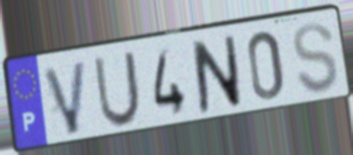0: (245, 28, 288, 105)
4: (151, 46, 189, 116)
N: (190, 33, 244, 117)
S: (290, 20, 341, 97)
U: (91, 48, 143, 130)
V: (40, 57, 89, 138)
